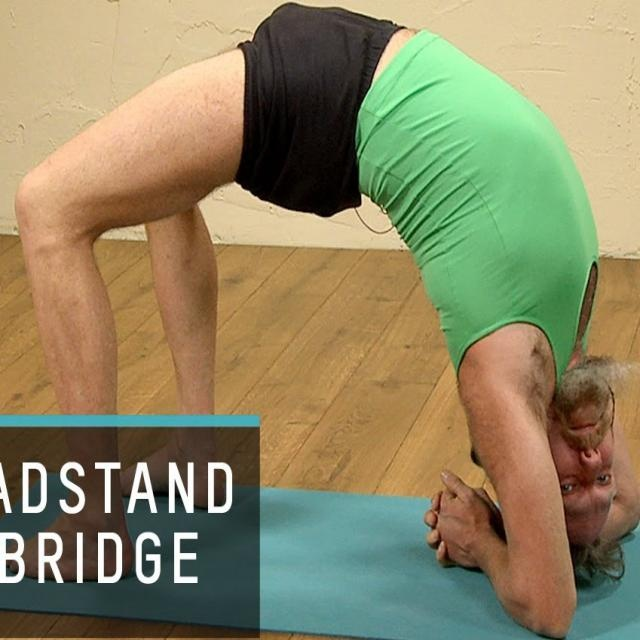Bridge_Pose: (4, 1, 638, 639)
